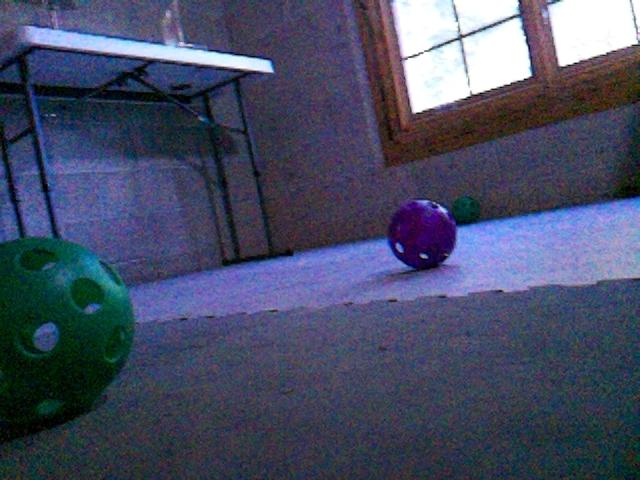Green: (0, 236, 136, 430), (450, 195, 480, 224)
Purple: (385, 198, 458, 270)
